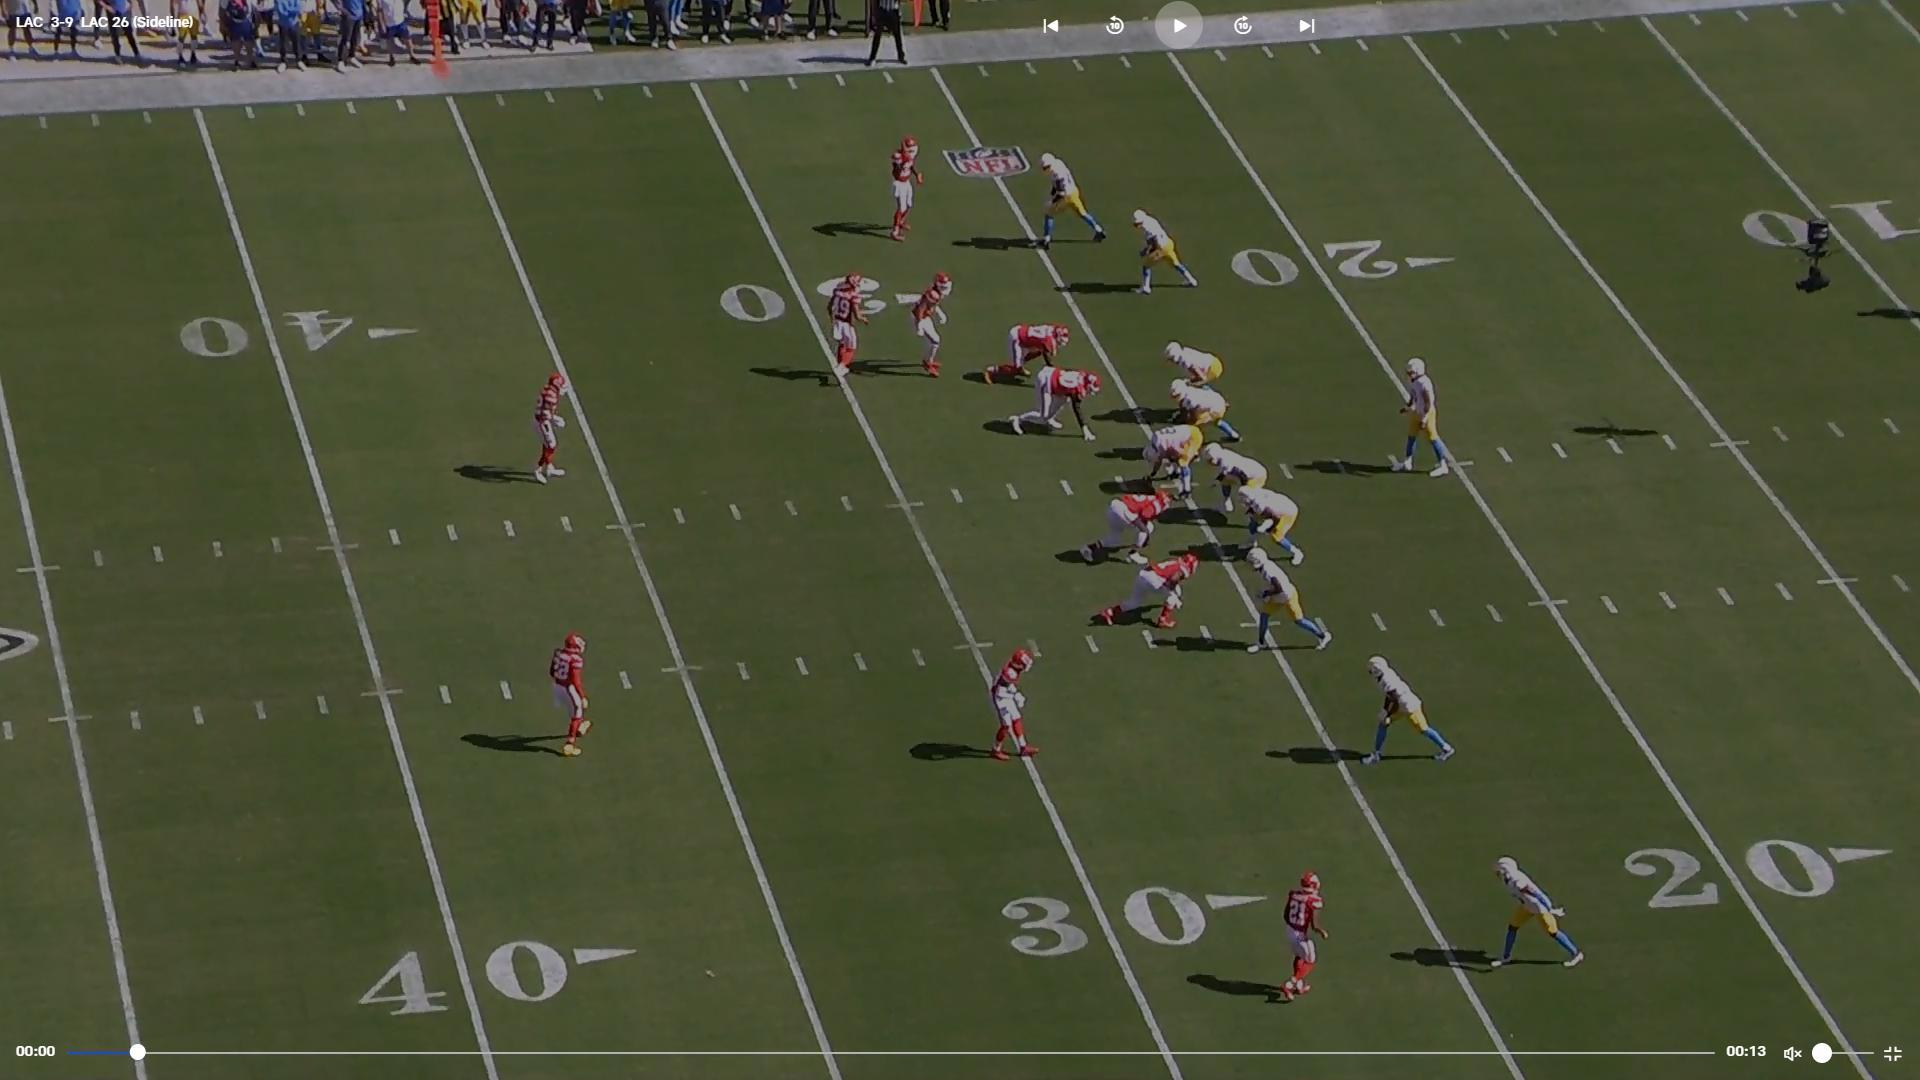defense: (1096, 553, 1207, 637), (1275, 864, 1333, 1005), (1073, 490, 1171, 569), (1009, 365, 1106, 441), (546, 631, 600, 765), (988, 645, 1047, 767), (527, 368, 577, 486), (988, 322, 1075, 385), (909, 268, 956, 379), (827, 268, 868, 392), (882, 133, 923, 244)
oline: (1240, 483, 1311, 569), (1205, 443, 1273, 529), (1167, 378, 1241, 447), (1141, 421, 1204, 501), (1162, 338, 1227, 390)
qb: (1400, 356, 1459, 483)
ref: (856, 0, 911, 71)
skill: (1352, 651, 1460, 772), (1489, 853, 1588, 972), (1243, 545, 1335, 656), (1030, 147, 1107, 250), (1129, 202, 1203, 298)
